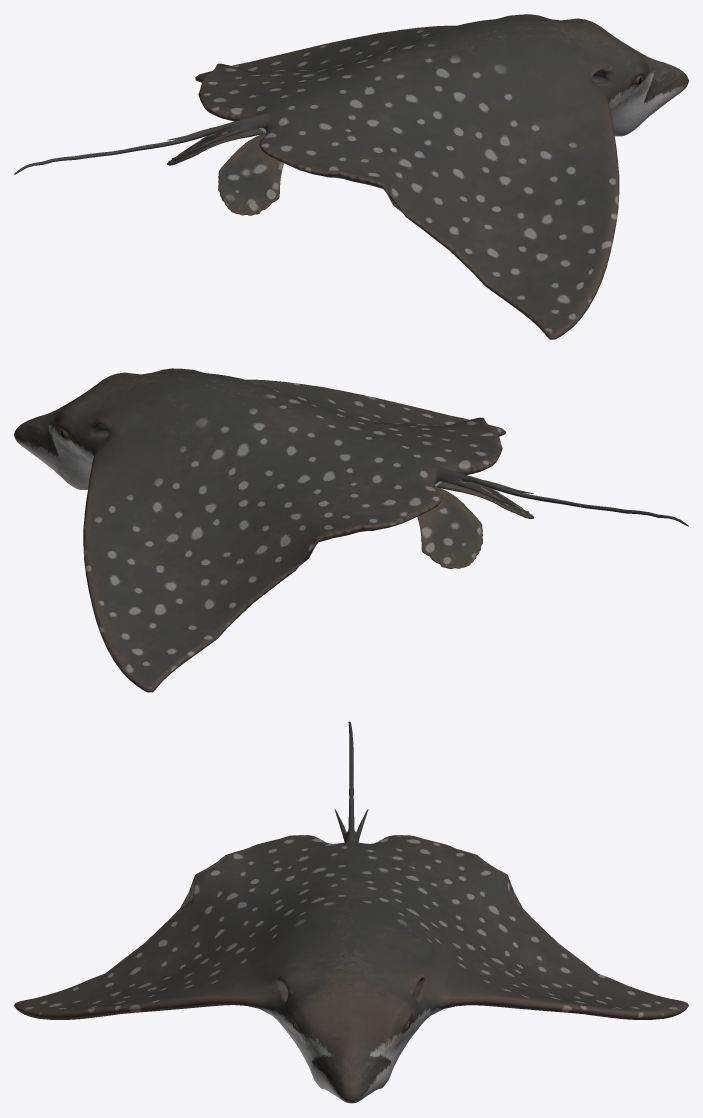
The model's file is ray.glb.
3 renders of one model, top to bottom at view 1: azimuth 30°, elevation 25°; view 2: azimuth 150°, elevation 25°; view 3: azimuth 270°, elevation 25°, orthographic. The views are drawn at different scales.
Parts seen in each view (by area): view 1: Object_7.001; view 2: Object_7.001; view 3: Object_7.001.
Part boxes in pixels (<box>): Object_7.001: <box>14,14,688,339</box>; Object_7.001: <box>14,368,688,692</box>; Object_7.001: <box>14,721,688,1103</box>.
Bounding box in the file's own units: 1 × 0.2124 × 0.9167.
1 material, 1 textured.
